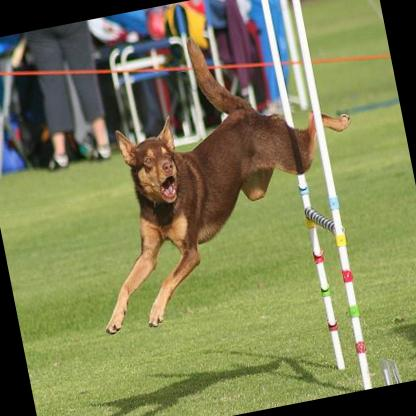kelpie: (52, 8, 378, 334)
